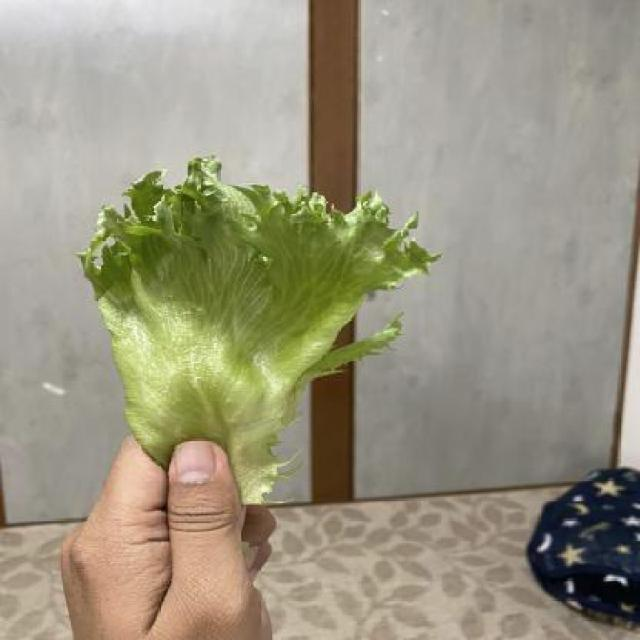Lettuce: (73, 154, 436, 492)
